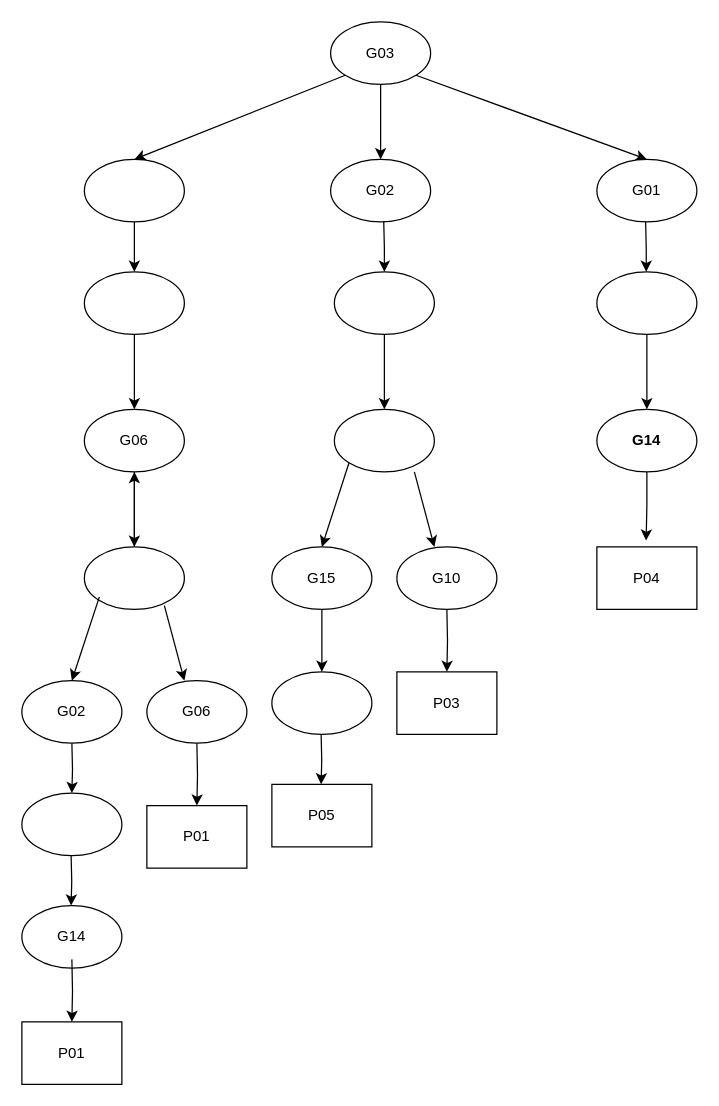
Some shapes in this 719 by 1106 pixel diagram are drawn without their labels. The box of each missing label's shape, as (x1, y1, x2, y2) in pixels:
G04: (83, 158, 184, 222)
G05: (83, 271, 184, 334)
G07: (21, 792, 122, 856)
G09: (83, 546, 184, 609)
G11: (333, 271, 434, 334)
G12: (333, 408, 434, 472)
G13: (596, 271, 697, 334)
G16: (271, 671, 372, 734)
